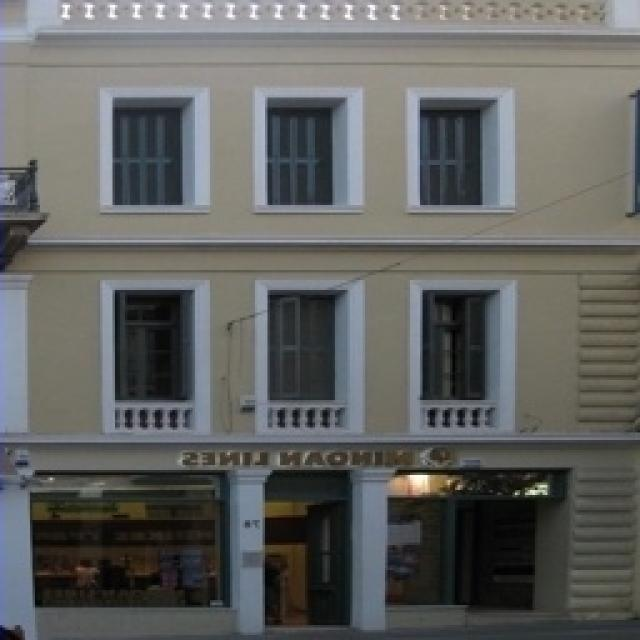Window: (35, 477, 220, 605), (390, 502, 535, 600), (425, 298, 490, 400), (272, 298, 336, 398), (120, 298, 182, 398), (115, 110, 180, 200), (420, 110, 480, 202), (270, 110, 328, 202)
